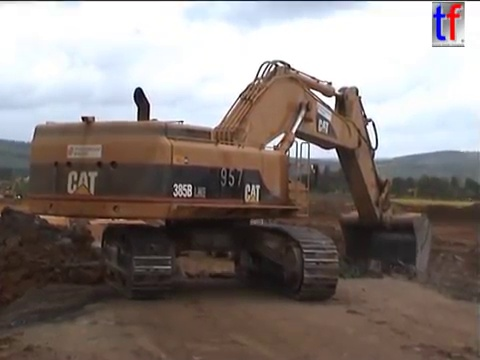excavator: (23, 54, 437, 304)
truck: (1, 209, 151, 336), (80, 215, 170, 288)
